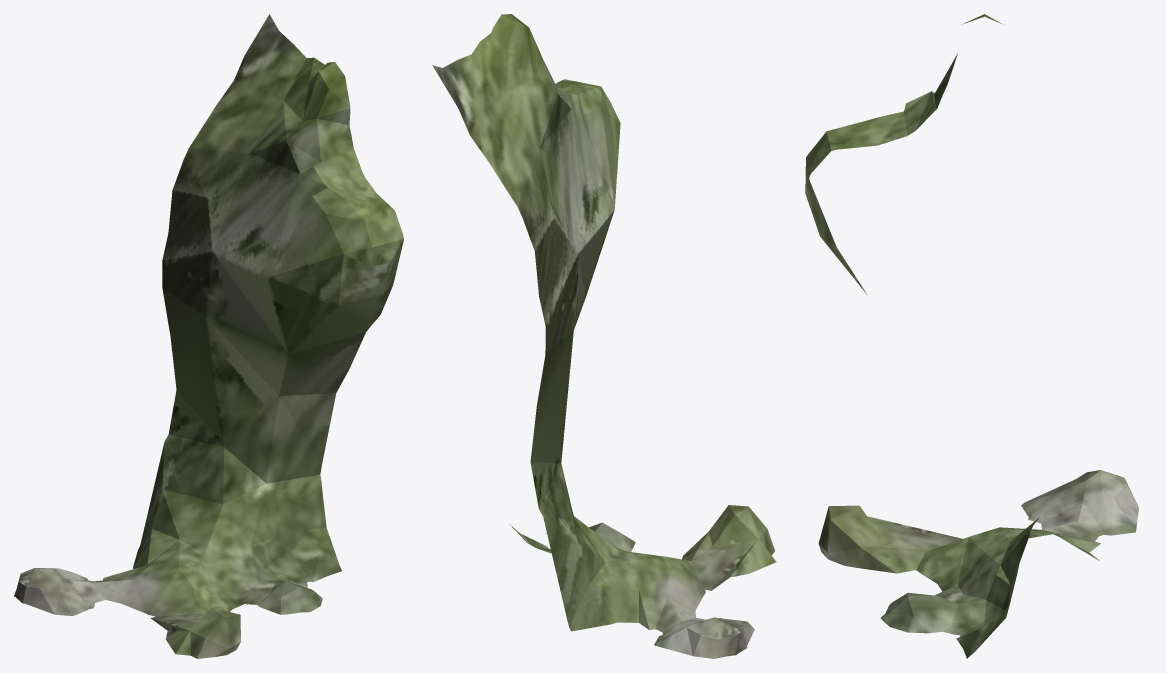
3 views of the same model, side by side, from view 1: azimuth 30°, elevation 25°; view 2: azimuth 150°, elevation 25°; view 3: azimuth 270°, elevation 25° (orthographic). The views are drawn at different scales.
Size of the model in its own units: 1.21 by 2.15 by 1.05.
1 material, 1 textured.
